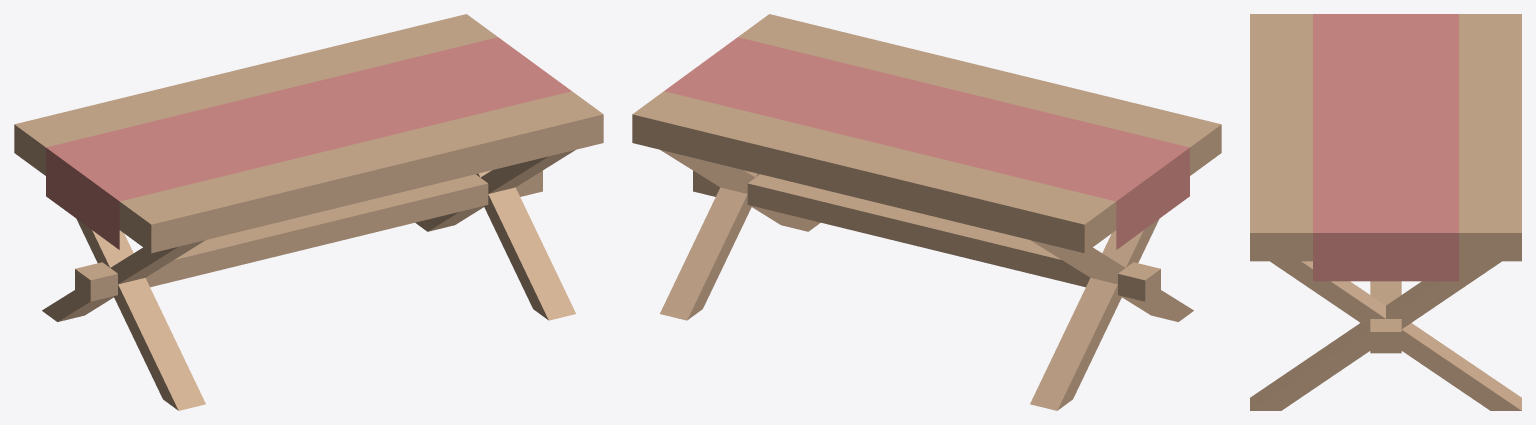
The model's file is tableCrossCloth.glb.
The picture shows the model from 3 angles, left to right: view 1: azimuth 30°, elevation 25°; view 2: azimuth 150°, elevation 25°; view 3: azimuth 270°, elevation 25°; orthographic projection.
Visible parts, largest first — view 1: tableCrossCloth; view 2: tableCrossCloth; view 3: tableCrossCloth.
Boxes of the visible parts, box(x1,y1,x2,y2) form: tableCrossCloth: box(14, 14, 603, 410); tableCrossCloth: box(632, 14, 1221, 410); tableCrossCloth: box(1250, 14, 1521, 410).
Size of the model in its own units: 0.8521 by 0.3474 by 0.4474.
